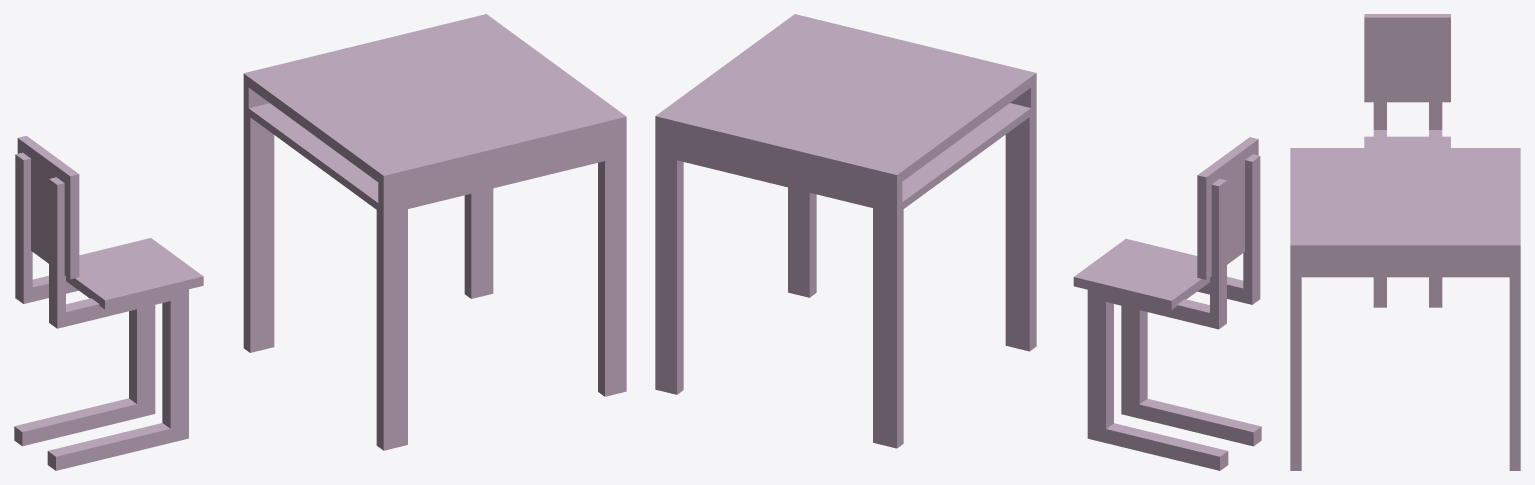
The model's file is Desk.fbx.
3 renders of one model, left to right at view 1: azimuth 30°, elevation 25°; view 2: azimuth 150°, elevation 25°; view 3: azimuth 270°, elevation 25°, orthographic. The views are drawn at different scales.
Visible parts, largest first — view 1: Cube.021 (×2); view 2: Cube.021 (×2); view 3: Cube.021 (×2).
Boxes of the visible parts, box(x1,y1,x2,y2) form: Cube.021 (×2): box(14, 14, 626, 470); Cube.021 (×2): box(655, 14, 1261, 470); Cube.021 (×2): box(1290, 14, 1520, 470).
Size of the model in its own units: 143 by 80.36 by 66.6.
